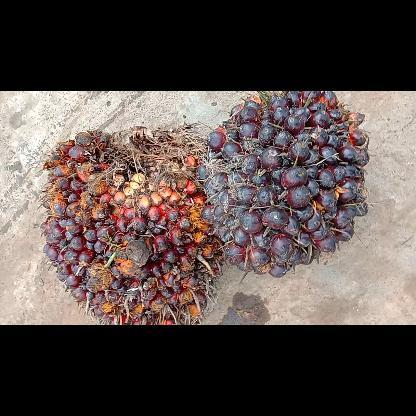TBS masak: (37, 126, 224, 324)
TBS mentah: (197, 90, 369, 278)
